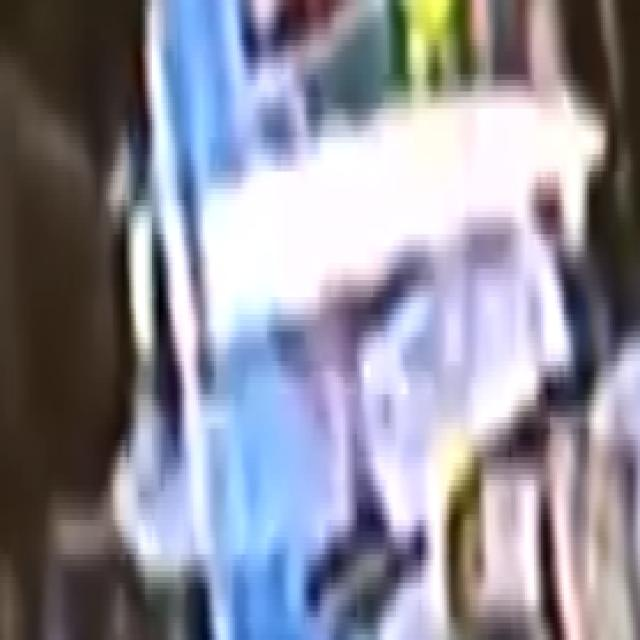Fknife: (113, 78, 606, 410)
